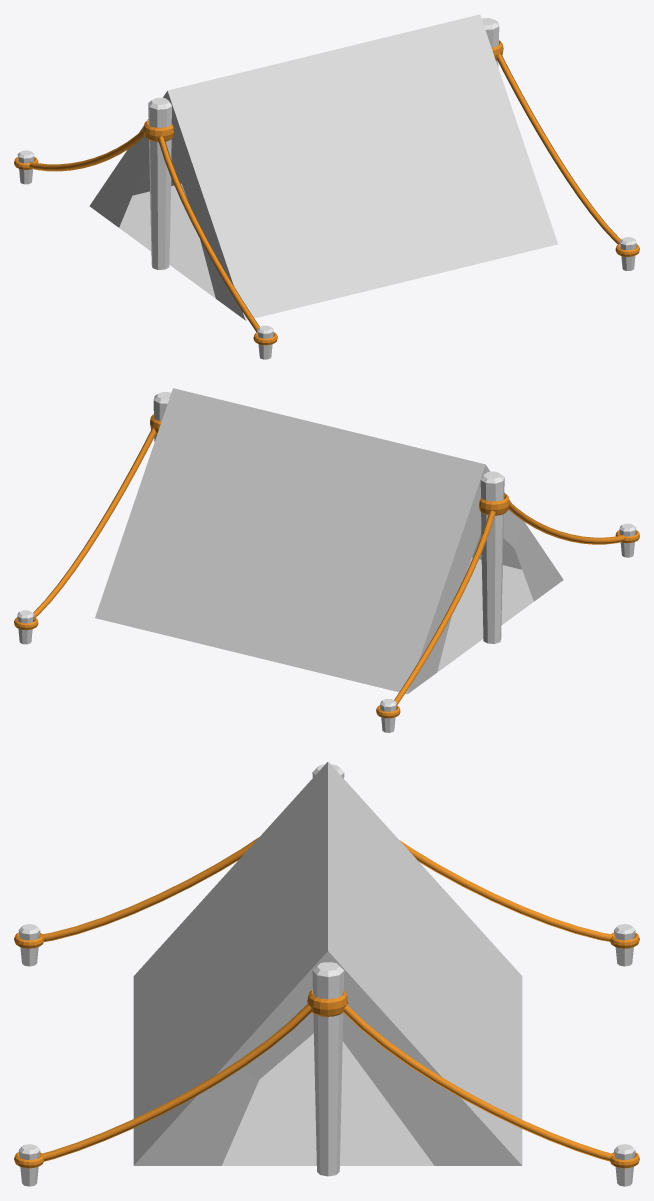
The model's file is Tent.fbx.
3 renders of one model, top to bottom at view 1: azimuth 30°, elevation 25°; view 2: azimuth 150°, elevation 25°; view 3: azimuth 270°, elevation 25°, orthographic. The views are drawn at different scales.
Visible parts, largest first — view 1: Tent_model; view 2: Tent_model; view 3: Tent_model.
Part boxes in pixels (x1=…): Tent_model: x1=14, y1=14, x2=639, y2=359; Tent_model: x1=14, y1=388, x2=639, y2=732; Tent_model: x1=14, y1=761, x2=639, y2=1186.
Bounding box in the file's own units: 245 × 106 × 279.
